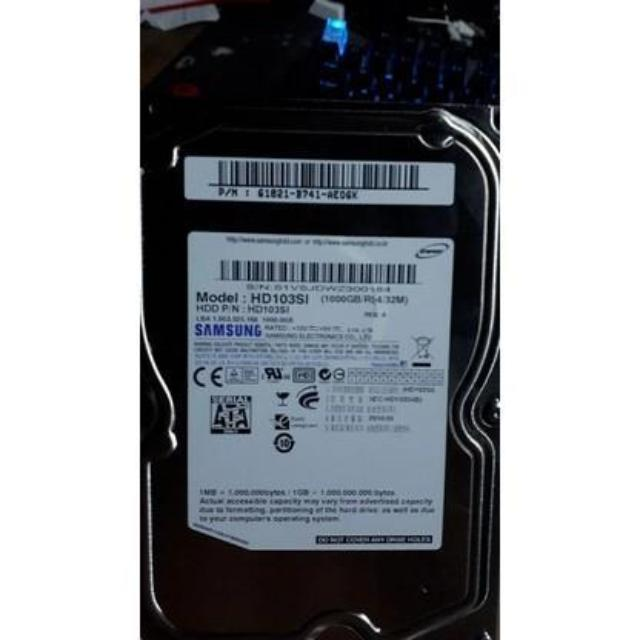DISK: (140, 82, 495, 640)
